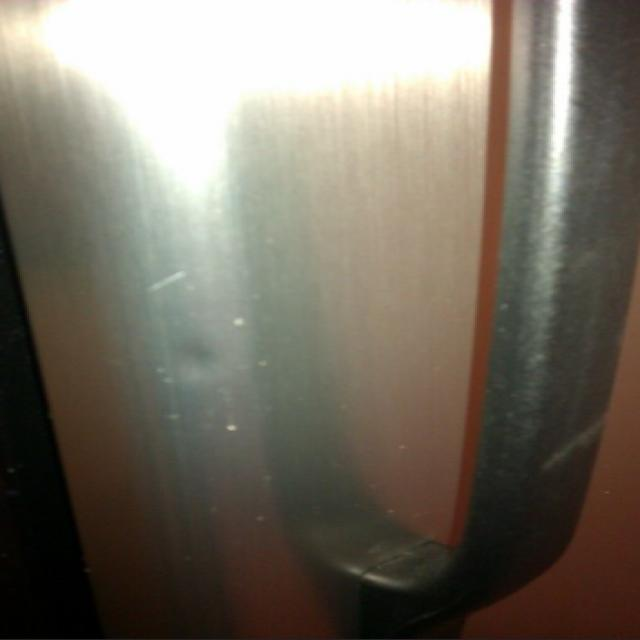dents: (160, 323, 250, 393)
